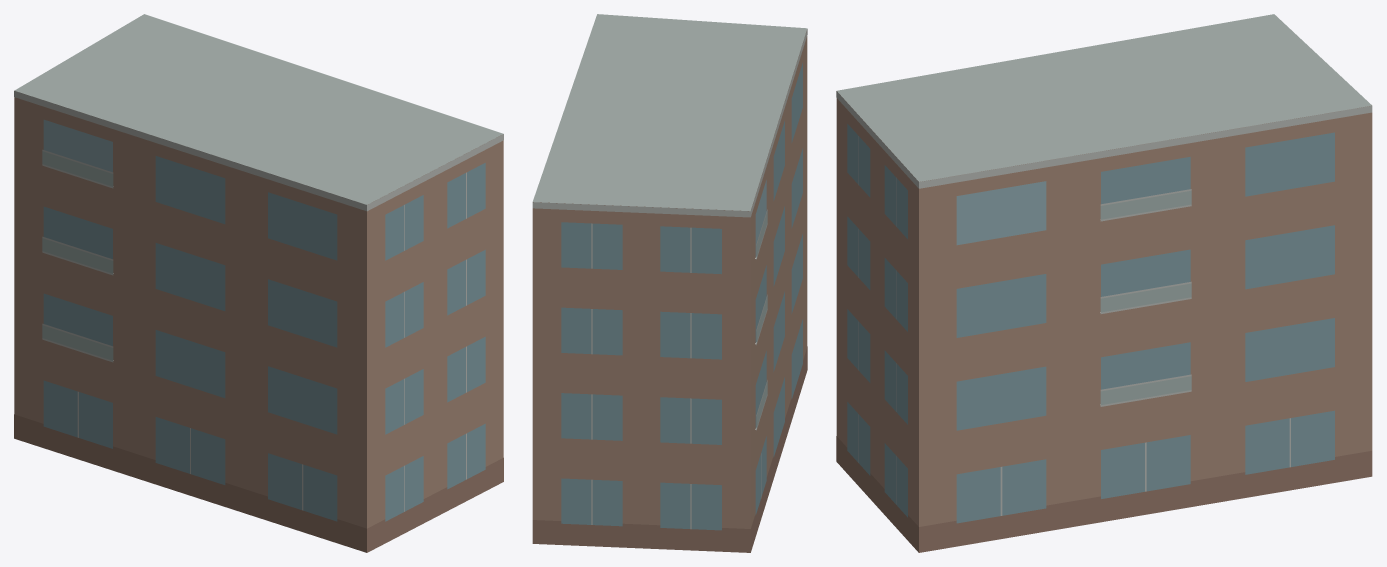
File: survey-upis-32861959.glb
3 renders of one model, left to right at view 1: azimuth 30°, elevation 25°; view 2: azimuth 150°, elevation 25°; view 3: azimuth 270°, elevation 25°, orthographic. The views are drawn at different scales.
Visible parts, largest first — view 1: survey-upis-32861959.tmp; view 2: survey-upis-32861959.tmp; view 3: survey-upis-32861959.tmp.
Part boxes in pixels (<box>): survey-upis-32861959.tmp: <box>14,14,503,552</box>; survey-upis-32861959.tmp: <box>532,14,807,552</box>; survey-upis-32861959.tmp: <box>836,14,1372,552</box>.
Size of the model in its own units: 12.83 by 13.2 by 17.29.
